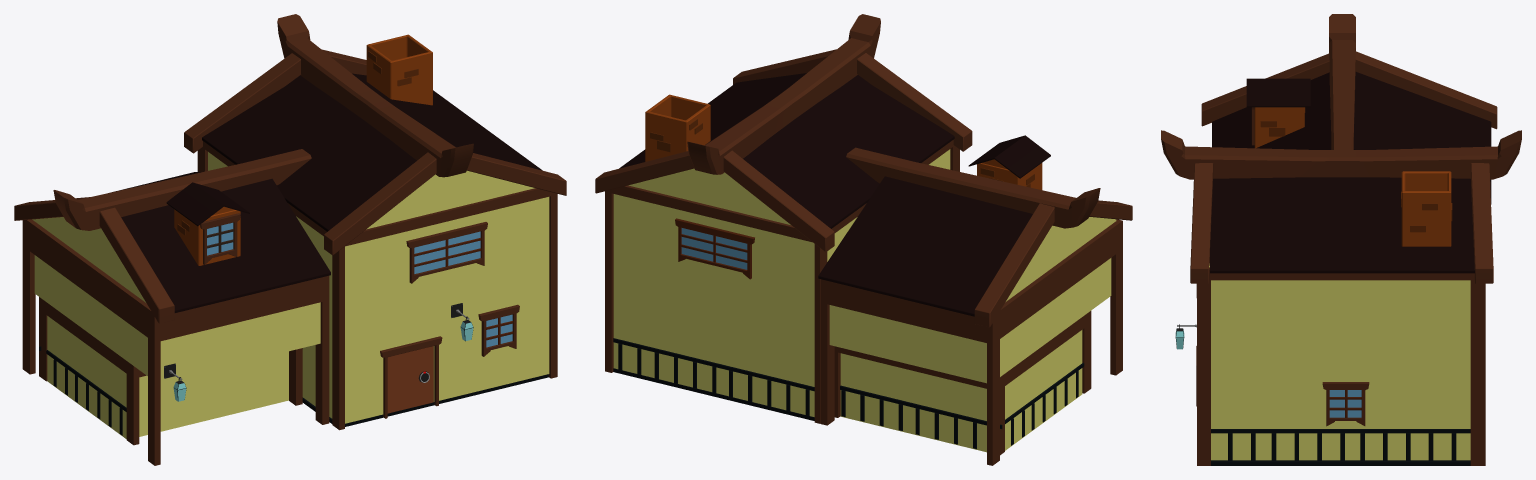
The model's file is Big_House.fbx.
3 renders of one model, left to right at view 1: azimuth 30°, elevation 25°; view 2: azimuth 150°, elevation 25°; view 3: azimuth 270°, elevation 25°, orthographic. The views are drawn at different scales.
Visible parts, largest first — view 1: Big_House; view 2: Big_House; view 3: Big_House.
Part boxes in pixels (bbox=[...]): Big_House: bbox=[14, 14, 566, 465]; Big_House: bbox=[595, 14, 1132, 465]; Big_House: bbox=[1161, 14, 1521, 465].
Bounding box in the file's own units: 4465 × 2672 × 3160.
